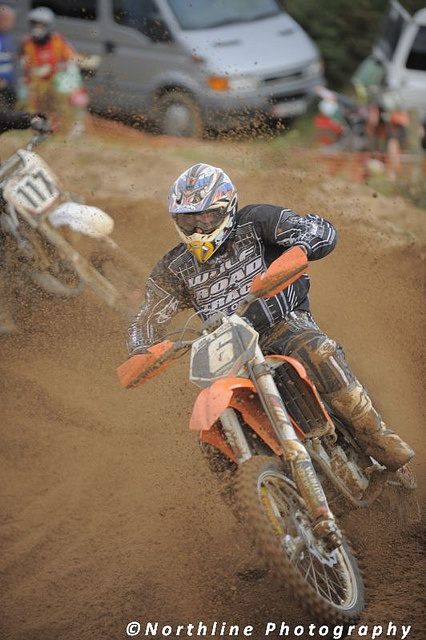non-vehicle: (114, 243, 415, 640), (0, 119, 147, 317), (313, 75, 410, 175), (23, 53, 100, 131)
